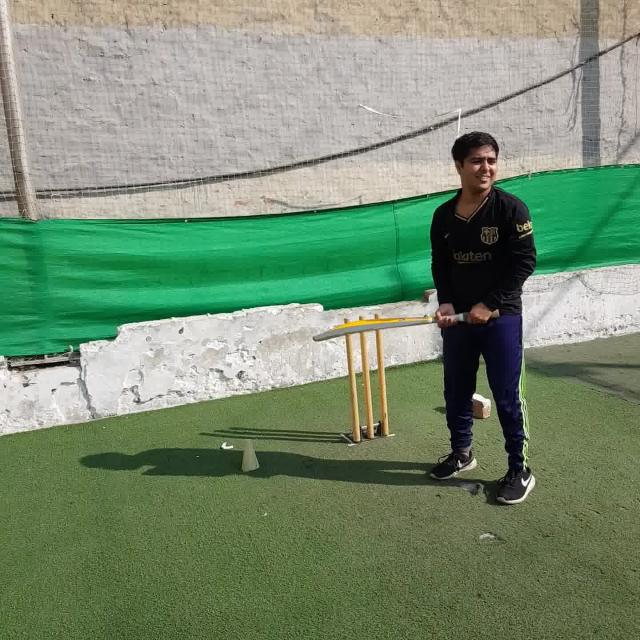bat: (311, 309, 499, 344)
